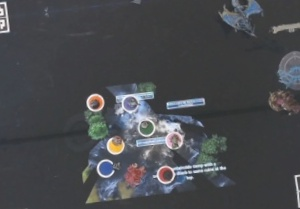blue: (94, 159, 118, 178)
green: (135, 116, 157, 136)
orange: (83, 91, 107, 112)
pink: (163, 130, 186, 150)
red: (149, 162, 176, 186)
violet: (117, 93, 141, 115)
yellow: (103, 132, 127, 154)
